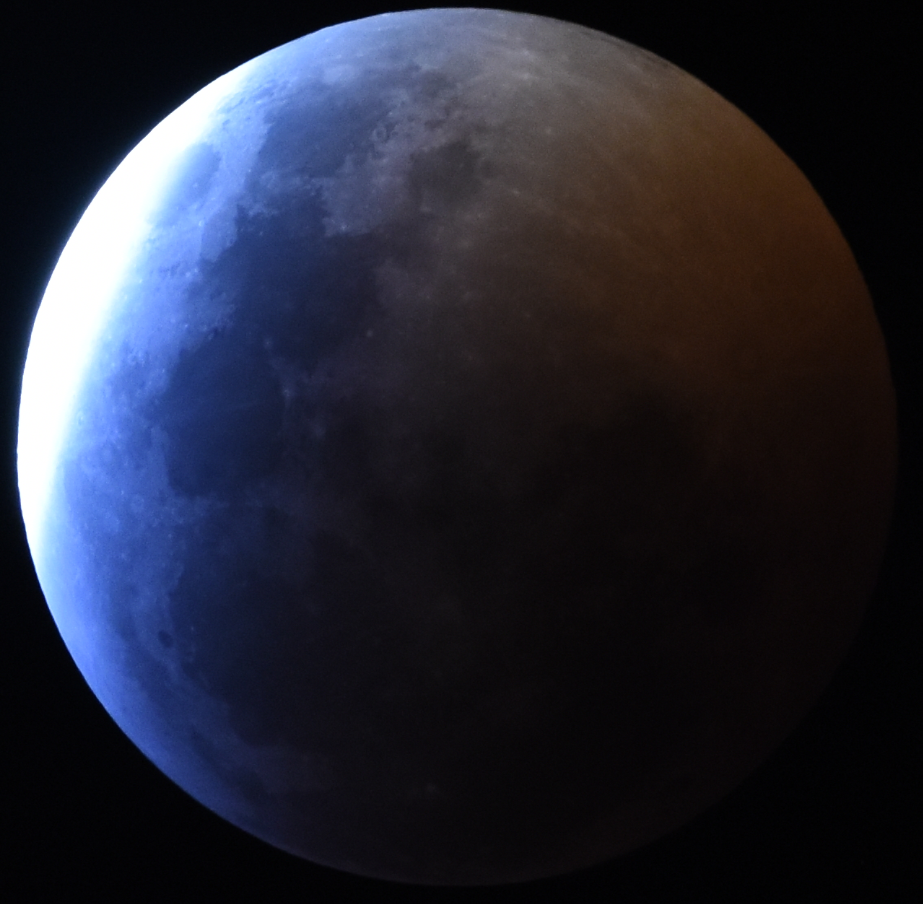crater: (474, 29, 599, 110), (508, 289, 544, 330), (92, 503, 129, 542), (410, 767, 451, 802), (146, 623, 180, 662), (260, 375, 305, 404), (124, 485, 161, 519), (303, 410, 336, 446), (534, 118, 567, 153), (356, 318, 387, 349), (330, 208, 356, 235), (187, 211, 215, 234)
